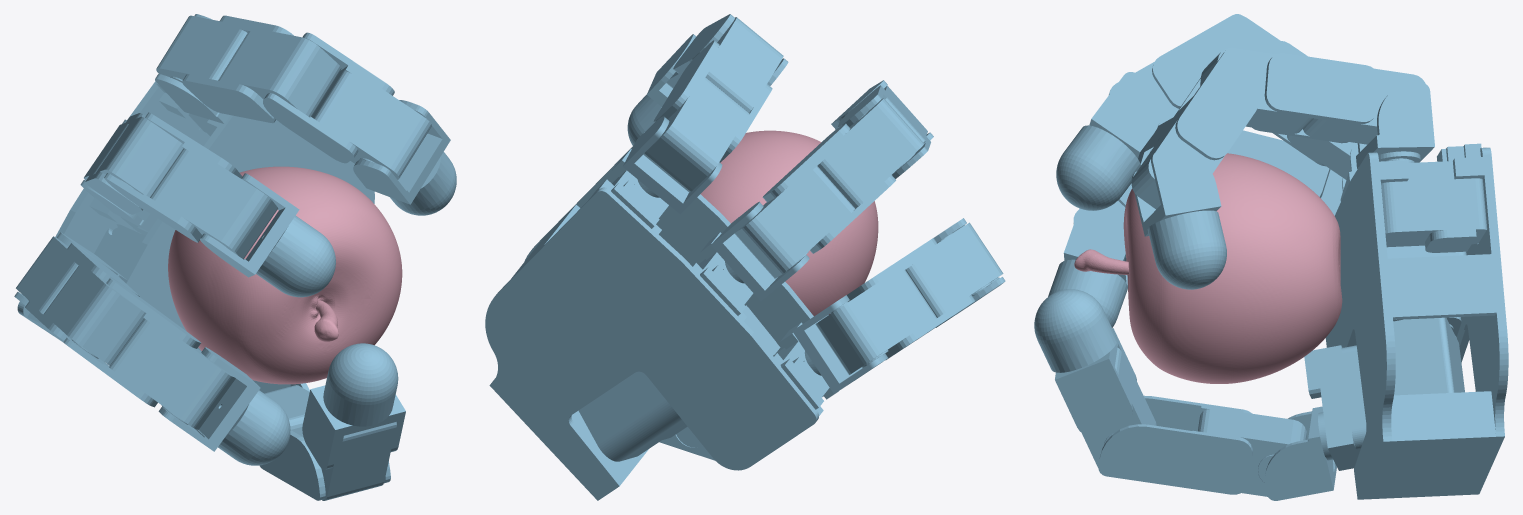
3 views of the same model, side by side, from view 1: azimuth 30°, elevation 25°; view 2: azimuth 150°, elevation 25°; view 3: azimuth 270°, elevation 25° (orthographic). The views are drawn at different scales.
Visible parts, largest first — view 1: world, apple.stl; view 2: world, apple.stl; view 3: world, apple.stl.
Part boxes in pixels (x1=…): world: x1=14, y1=14, x2=456, y2=500; apple.stl: x1=168, y1=166, x2=402, y2=384; world: x1=485, y1=14, x2=1005, y2=500; apple.stl: x1=700, y1=130, x2=878, y2=316; world: x1=1034, y1=14, x2=1508, y2=500; apple.stl: x1=1074, y1=153, x2=1342, y2=383.
Bounding box in the file's own units: 0.1593 × 0.1619 × 0.1563.
